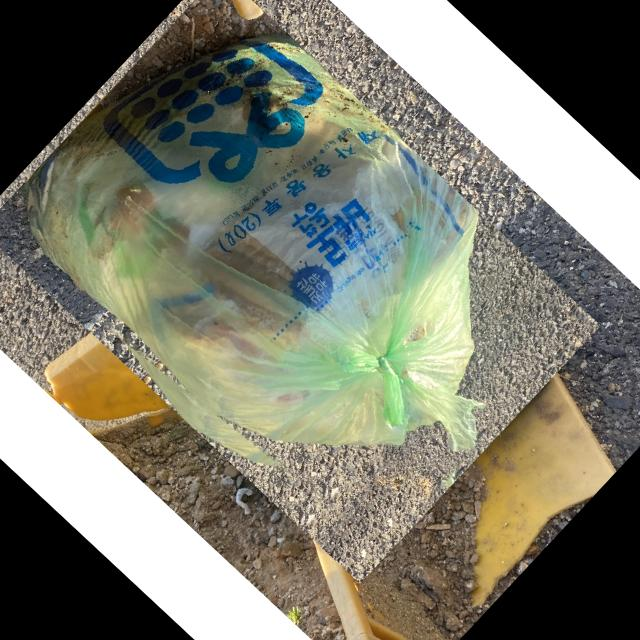general_trashbag: (26, 39, 477, 457)
